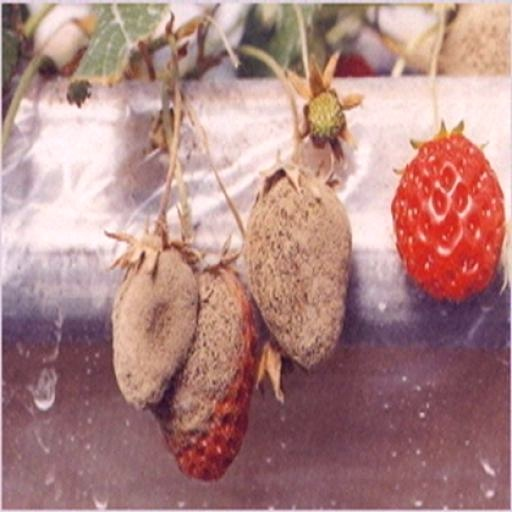Gray Mold: (251, 235, 363, 473), (158, 148, 266, 374), (306, 210, 411, 411)
